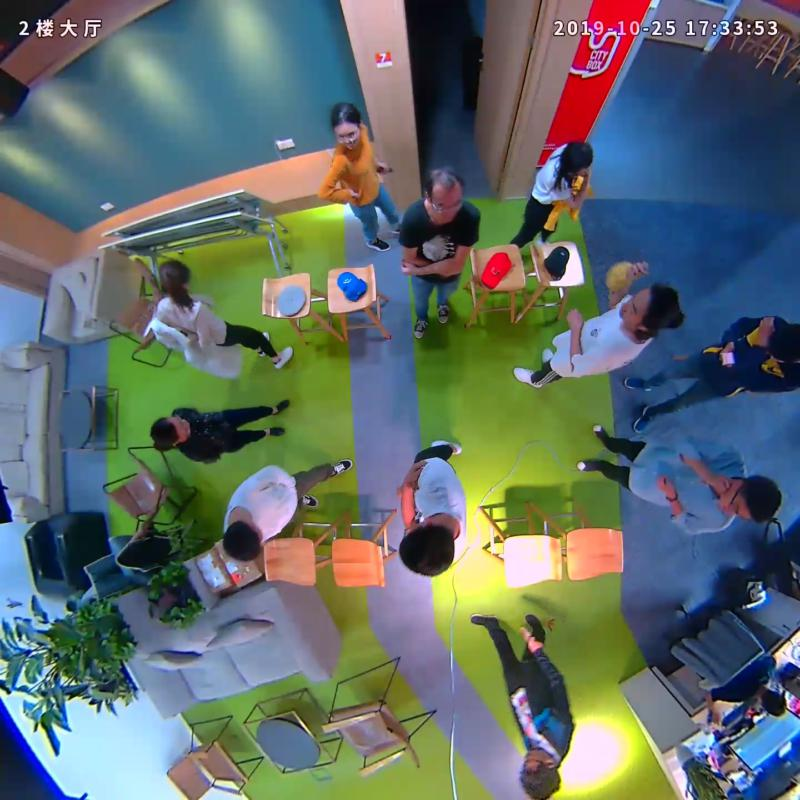head: (398, 519, 455, 577), (717, 473, 782, 522), (618, 284, 678, 335), (423, 166, 464, 223), (520, 747, 562, 800), (222, 520, 263, 562), (328, 102, 360, 150), (561, 139, 594, 176), (149, 416, 190, 442), (158, 260, 191, 292)
